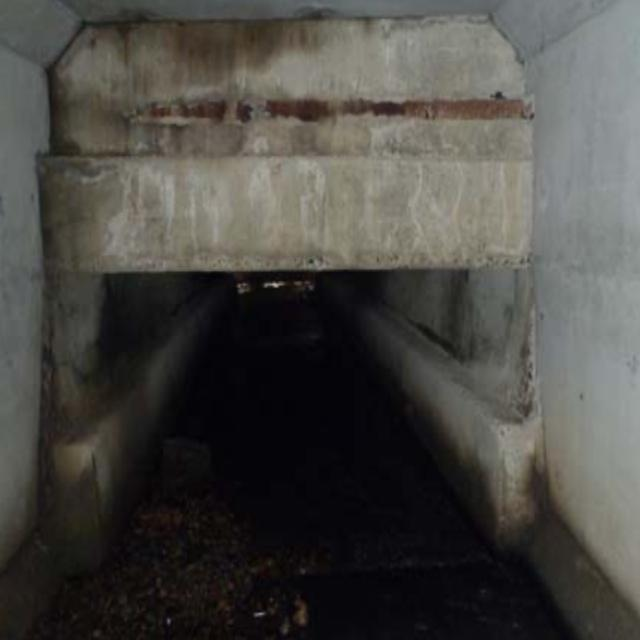corrosion: (136, 85, 534, 142)
